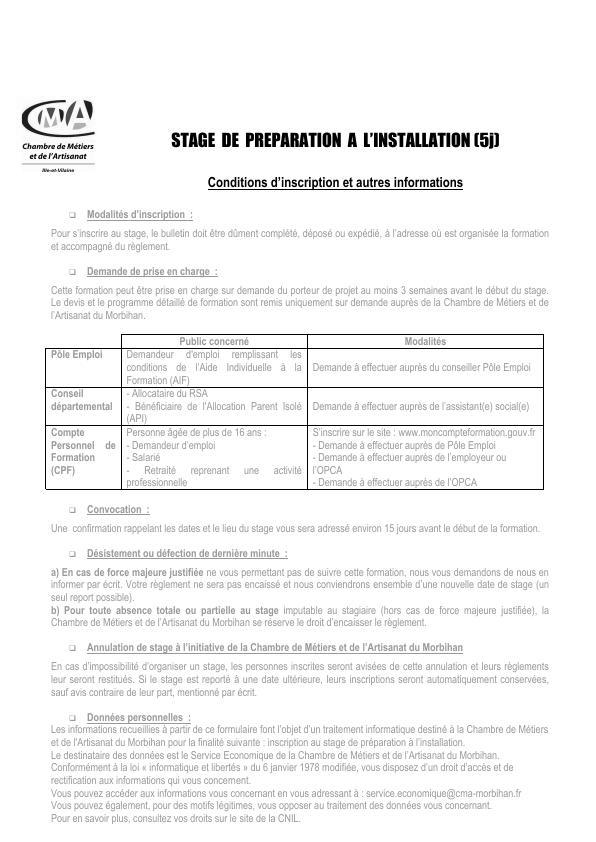table: (40, 330, 551, 494)
text: (44, 711, 564, 828), (47, 547, 555, 634), (41, 638, 561, 704), (48, 265, 548, 325), (48, 208, 553, 260), (164, 121, 512, 194), (41, 498, 546, 539)
